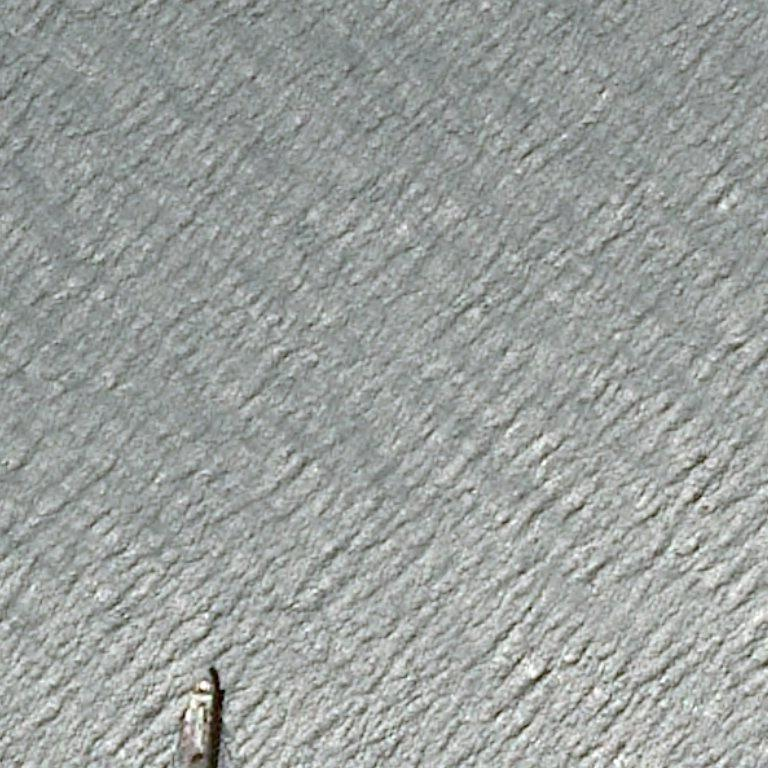ship: (176, 700, 225, 730), (208, 670, 213, 675), (210, 762, 216, 765), (31, 760, 31, 762)
